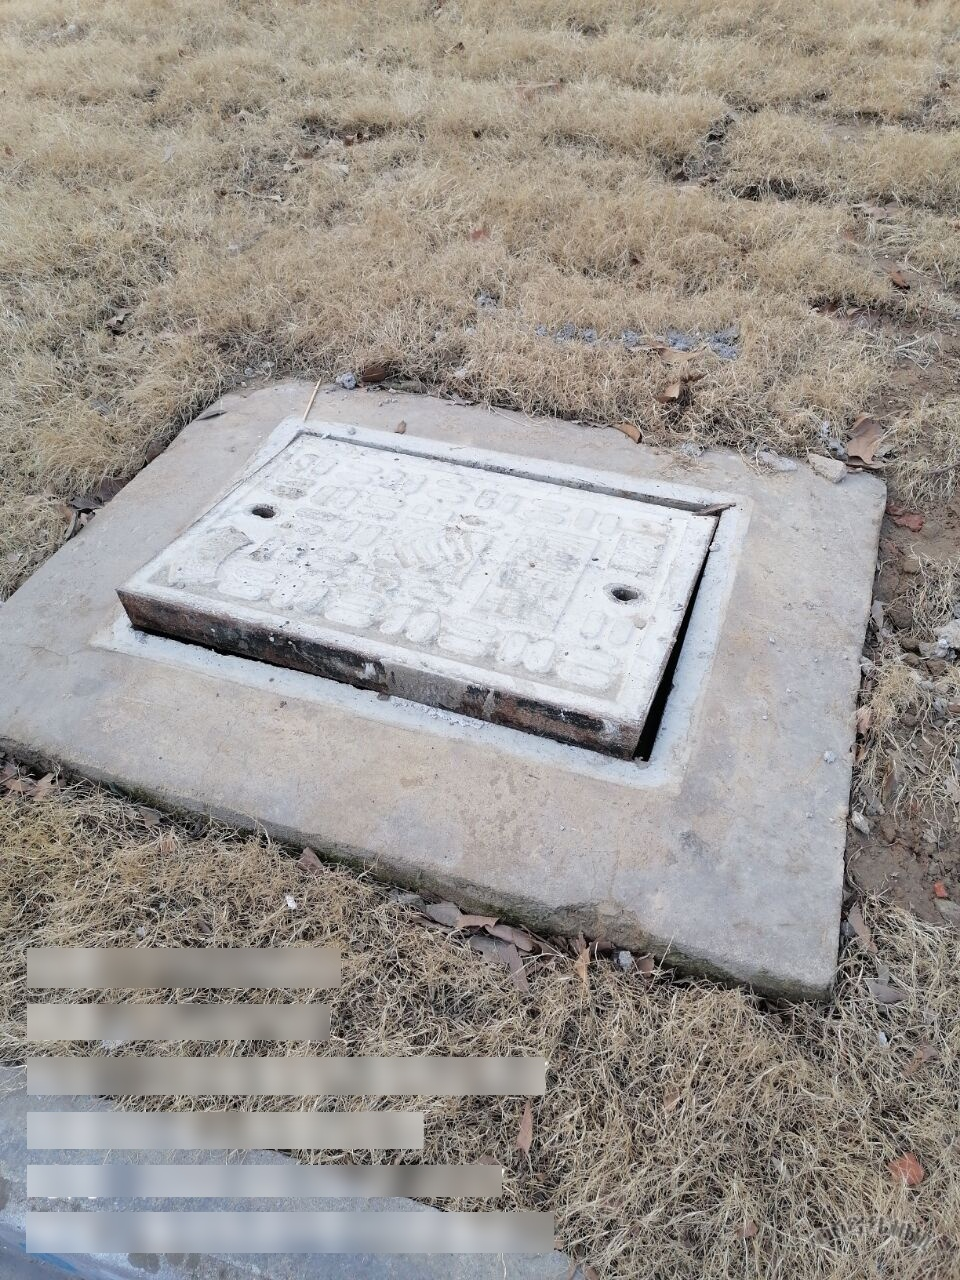uncovered: (80, 416, 754, 790)
